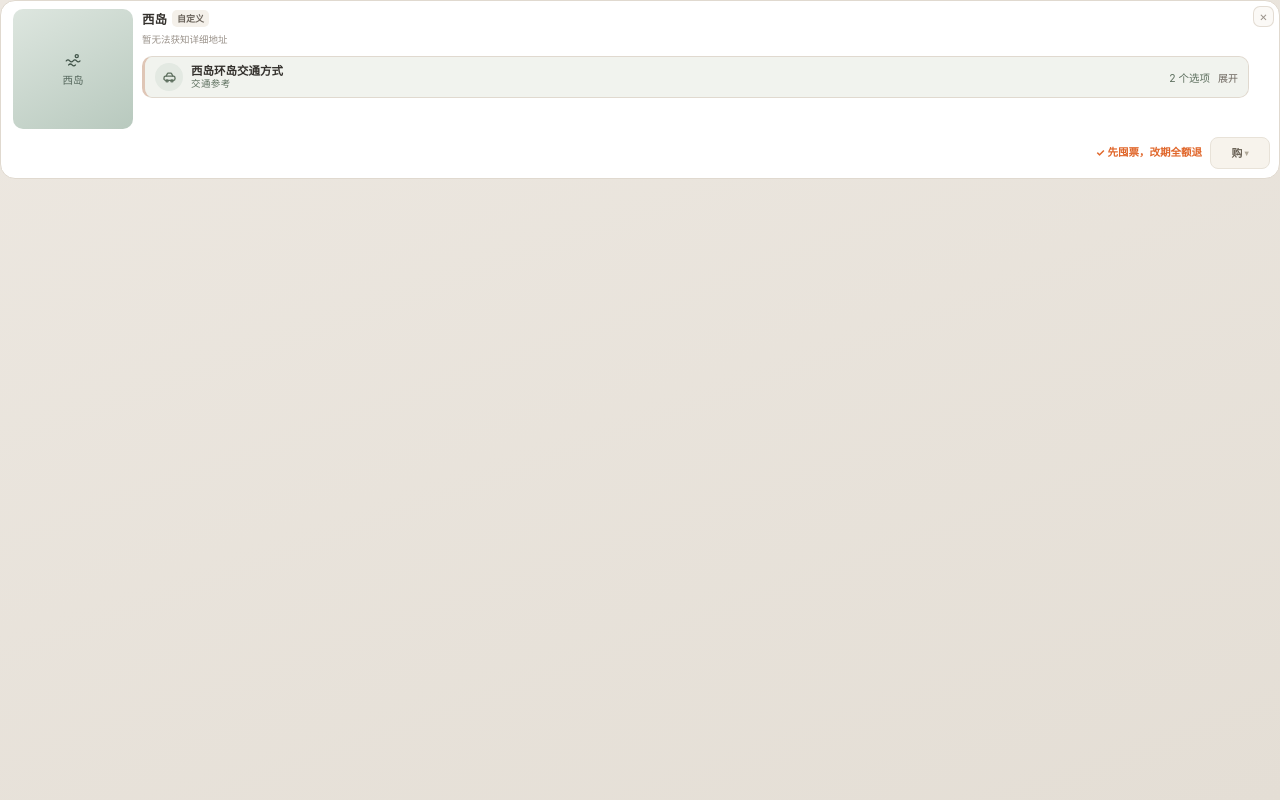
Test: VisitCard 实用参考选项组（任务 190） › Task #270 展开态按「路线 / 适合 / 说明」分行展示，字段缺失不渲染空行
Click the button with class "og-head" at (237, 71), box top-left (145, 57), bottom-right (1248, 97)
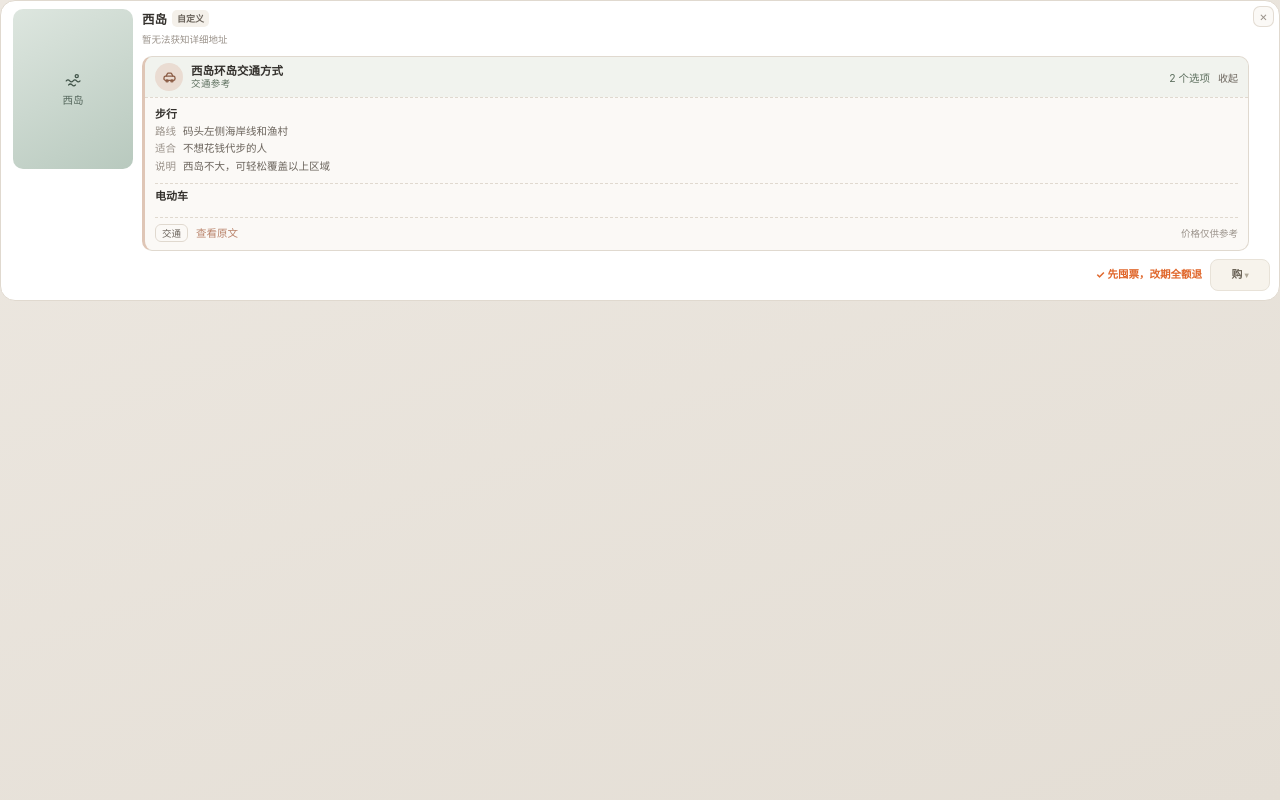
Now the text with class "og-key" reads "路线", box top-left (155, 125), bottom-right (176, 138)
Now the text with class "og-val" reads "码头左侧海岸线和渔村", box top-left (183, 125), bottom-right (288, 138)
Now the text with class "og-key" reads "适合", box top-left (155, 142), bottom-right (176, 155)
